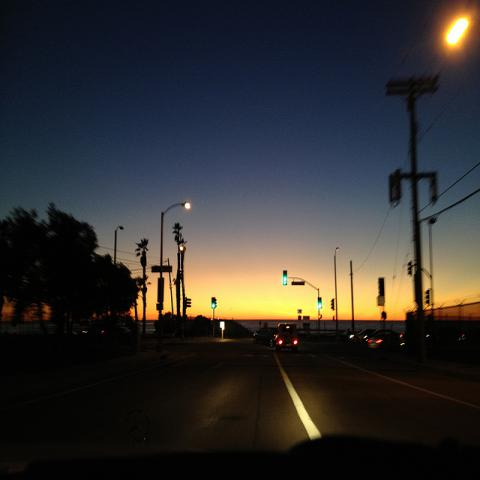car: (368, 327, 405, 349), (425, 325, 466, 344), (275, 323, 299, 353), (253, 327, 278, 347), (346, 328, 373, 344)
